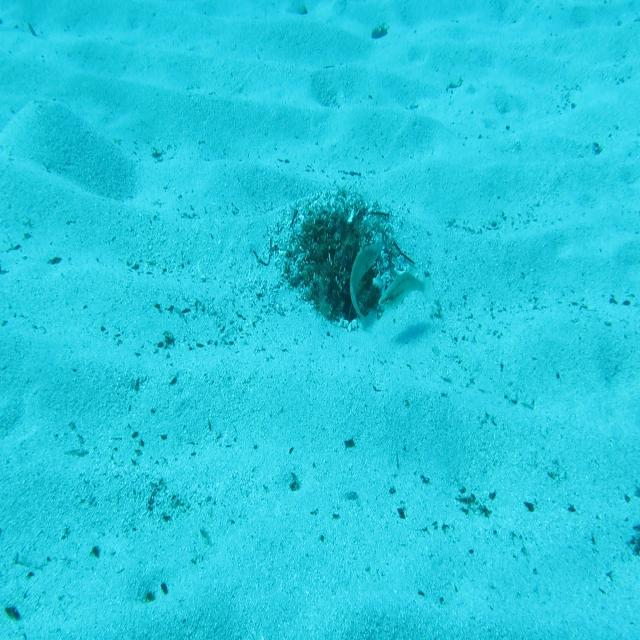BEND: (348, 233, 383, 334)
female: (378, 265, 438, 313)
nest: (276, 172, 405, 330)
